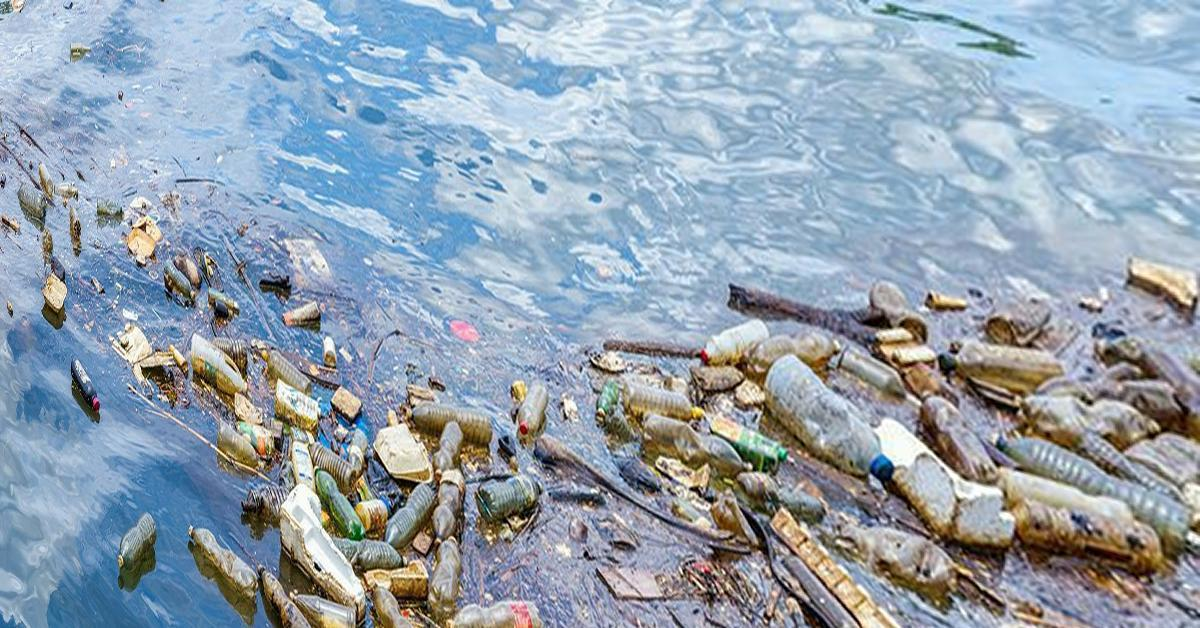Plastic Pollution: (561, 257, 1200, 621), (71, 233, 545, 622)
